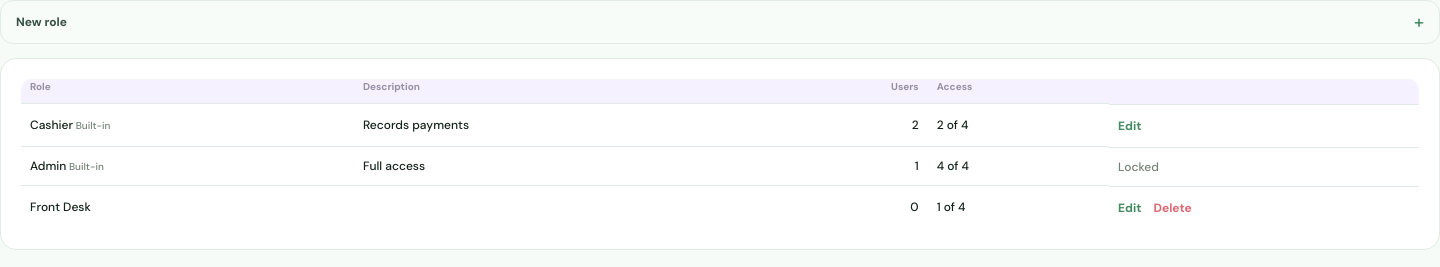
Scenario: shows a busy label while deleting
Click the button with aria-label "Delete Front Desk" at (1173, 208), box [1153, 196, 1192, 218]
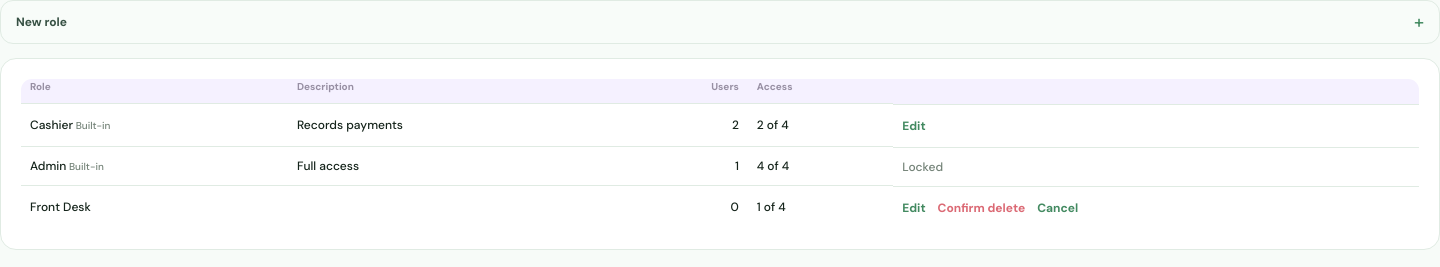
Click the button with aria-label "Confirm delete Front Desk" at (981, 208), box [938, 196, 1025, 218]
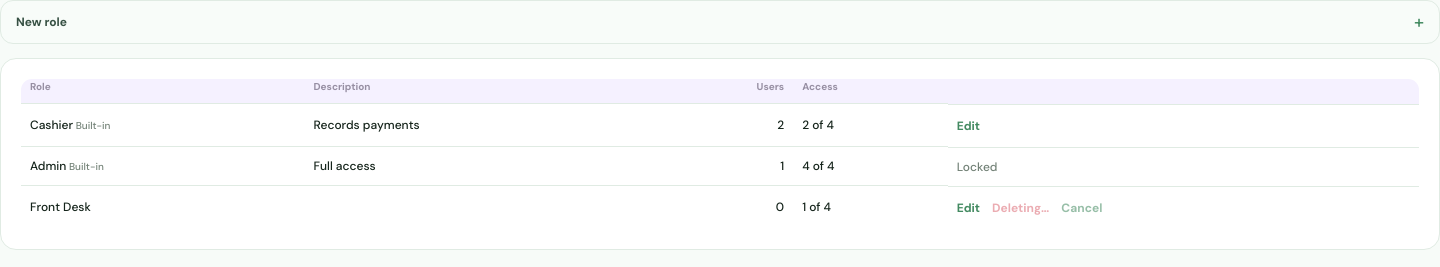
Now the button with aria-label "Confirm delete Front Desk" is disabled, box [992, 196, 1049, 218]
Now the button with aria-label "Confirm delete Front Desk" reads "Deleting…", box [992, 196, 1049, 218]
Now the button with aria-label "Cancel delete" is disabled, box [1061, 196, 1102, 218]
